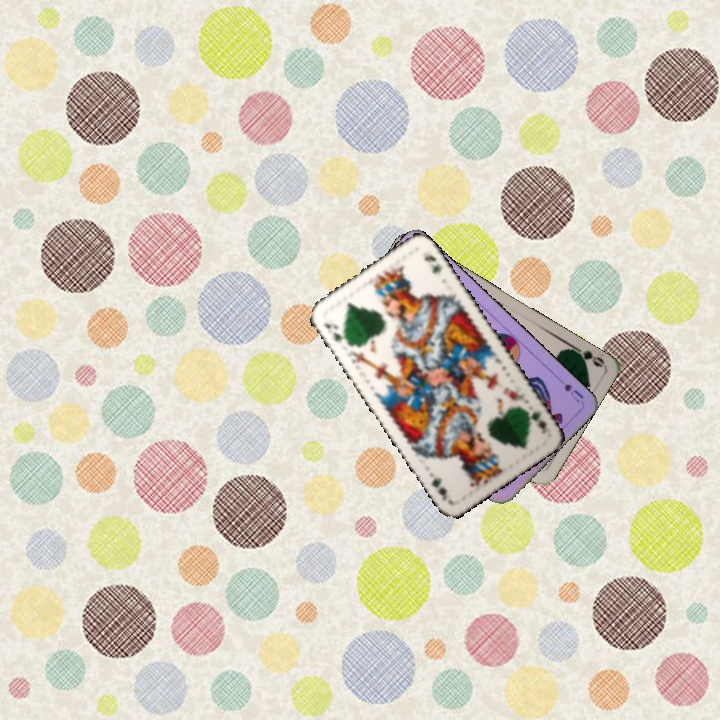GK: (520, 404, 551, 437), (319, 319, 351, 345)
GO: (566, 342, 607, 370)
SU: (560, 380, 586, 406)
